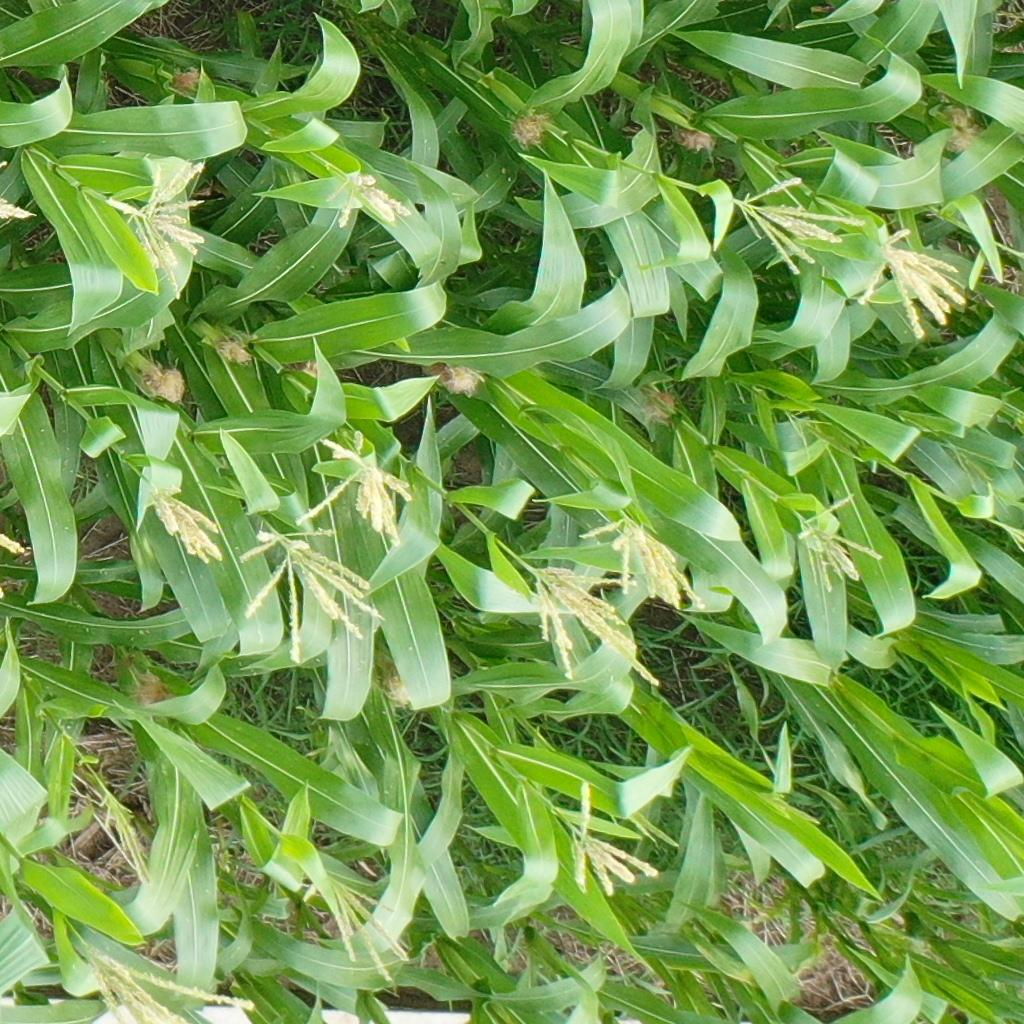Tassel: (232, 526, 385, 666), (528, 563, 660, 690), (725, 167, 865, 275), (75, 941, 254, 1024), (854, 217, 970, 340), (561, 785, 684, 900), (112, 158, 206, 305), (297, 429, 412, 547), (301, 870, 416, 984), (578, 518, 706, 611), (794, 494, 883, 594), (145, 483, 222, 565), (323, 169, 415, 232), (97, 792, 154, 886), (784, 408, 865, 468), (760, 788, 822, 826), (1, 196, 42, 221), (998, 522, 1024, 553)
